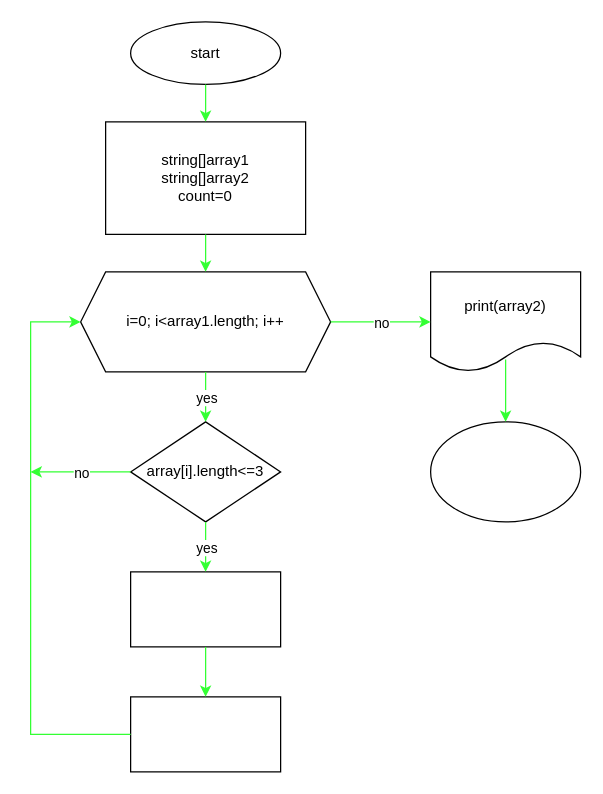
This 603x794 diagram has some shape labels left out. Each missing label, with the centre of its shape:
"array2[count] = array1[i]" goes at point 205,609.
"count++" goes at point 205,734.
"end" goes at point 505,471.
